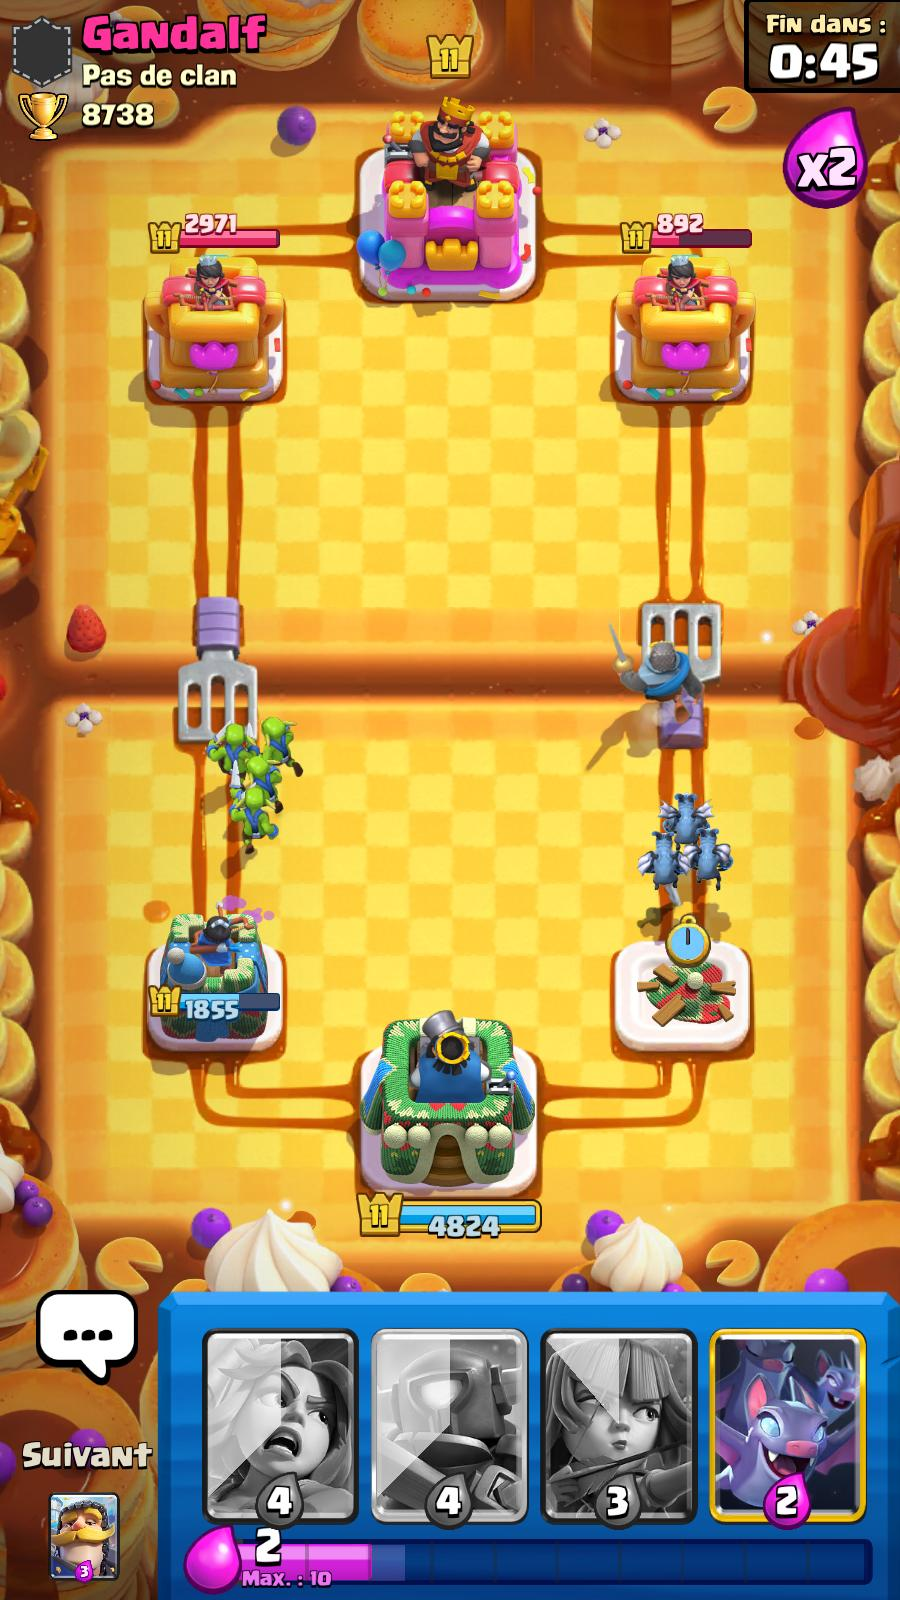chevalier: (592, 608, 705, 743)
gargouille: (655, 789, 720, 849), (637, 830, 695, 898), (689, 829, 735, 889)
gobelin: (227, 785, 296, 866), (195, 718, 256, 784), (258, 705, 309, 776), (236, 749, 287, 805)
